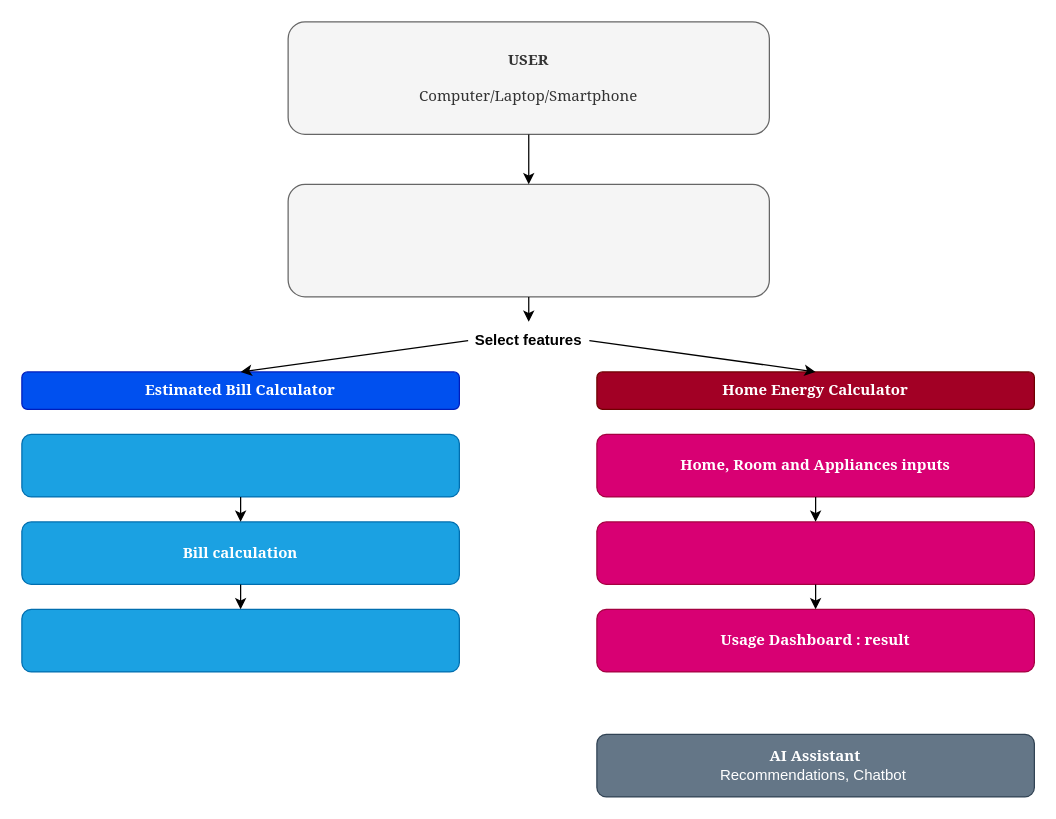
Some shapes in this 1056 by 819 pixel diagram are drawn without their labels. Each missing label, with the centre of its shape:
"Energy calculation" belongs at [815,552].
"Estimated Bill and Breakdown" belongs at [240,640].
"Tariff Selection and Billing inputs" belongs at [240,465].
"Web Interface Home page" belongs at [528,240].
